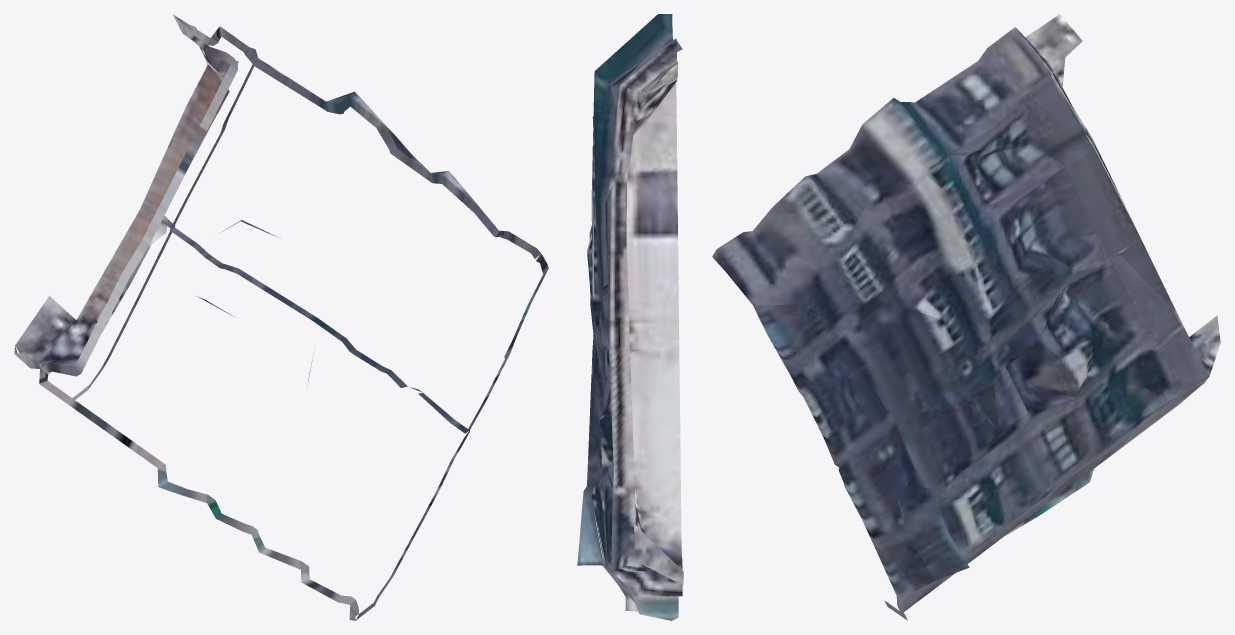
The picture shows the model from 3 angles, left to right: view 1: azimuth 30°, elevation 25°; view 2: azimuth 150°, elevation 25°; view 3: azimuth 270°, elevation 25°; orthographic projection. The views are drawn at different scales.
Bounding box in the file's own units: 17.35 × 31.09 × 26.13.
1 material, 1 textured.
